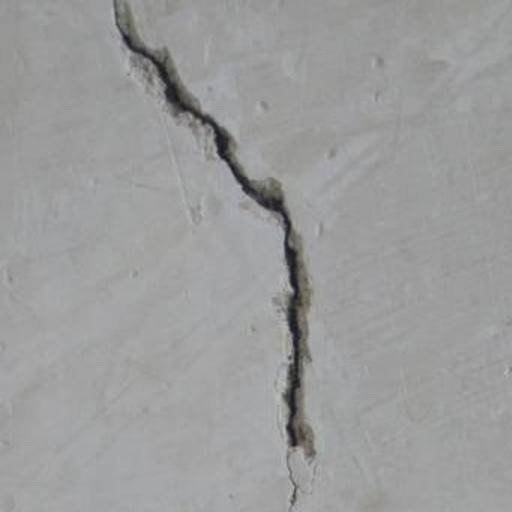major_crack: (100, 0, 327, 499)
